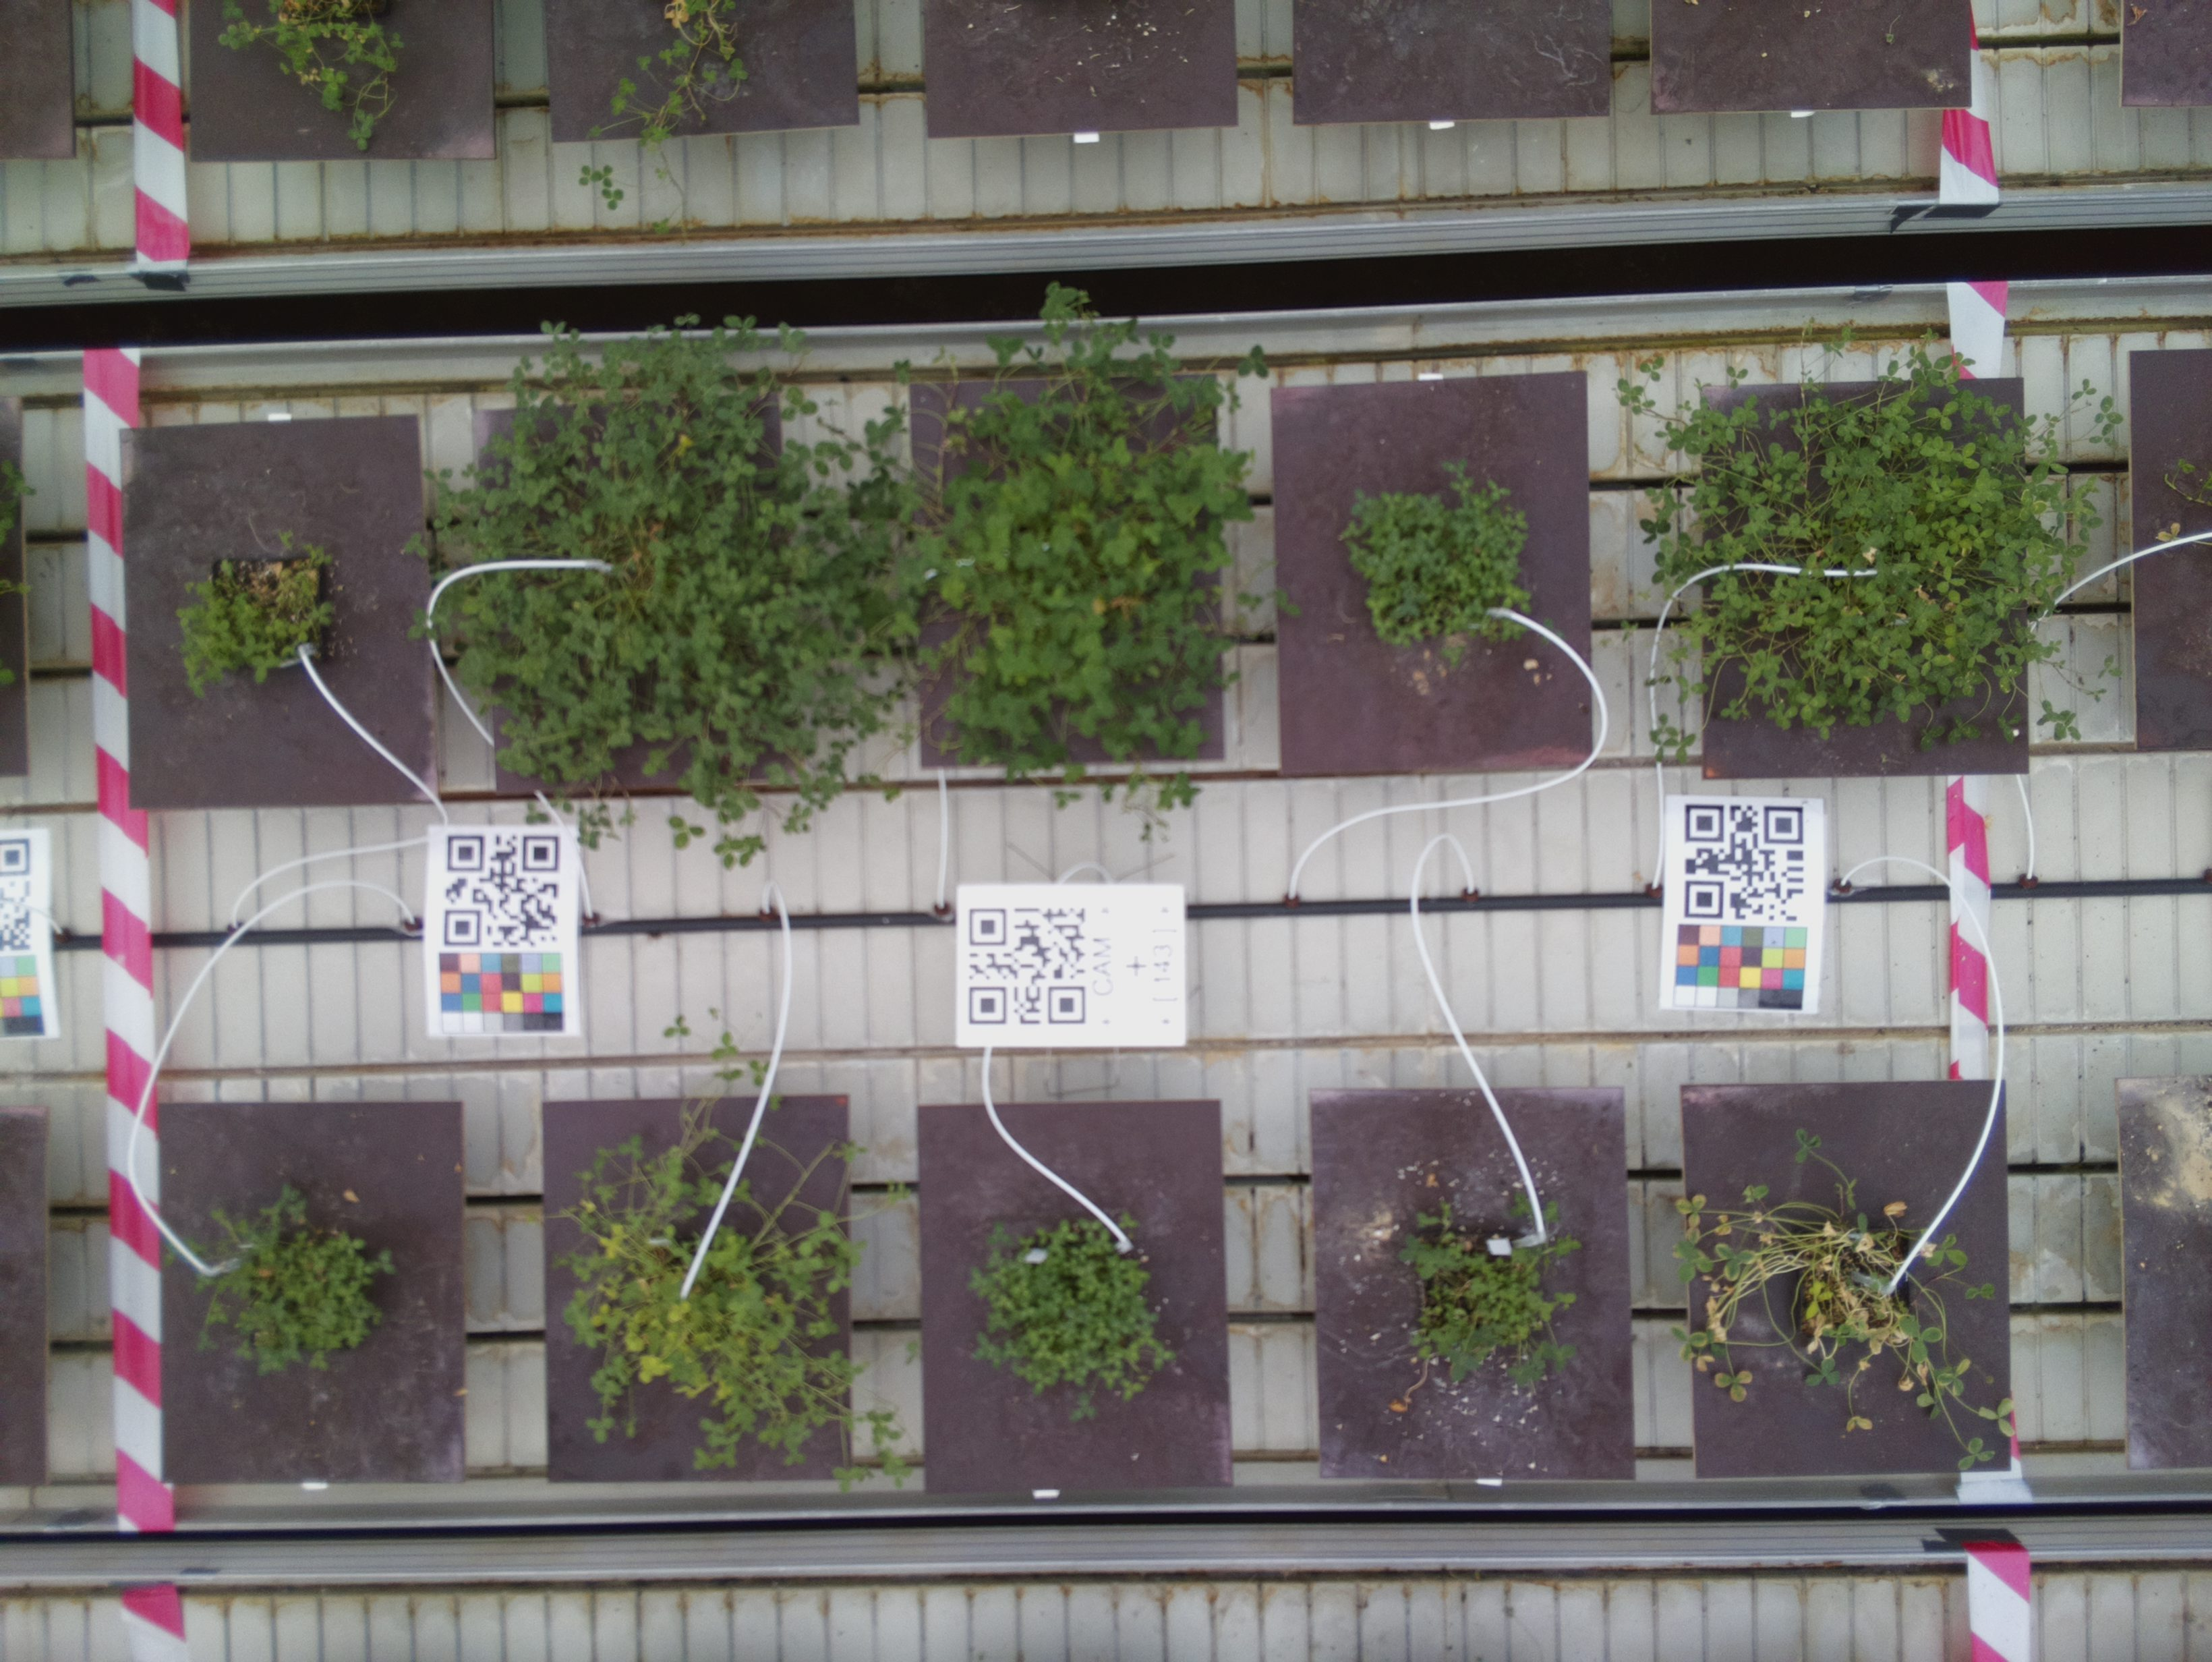POT: (1681, 1081, 2022, 1482), (1695, 384, 2036, 775), (1308, 1091, 1643, 1482), (904, 379, 1238, 766), (1271, 389, 1603, 768), (471, 403, 798, 786), (157, 1098, 475, 1489), (117, 424, 436, 807), (918, 1105, 1238, 1487), (541, 1102, 850, 1475)
QRCODE: (953, 883, 1189, 1047)
QRCOLOR: (1657, 793, 1821, 1006), (424, 828, 581, 1034)
